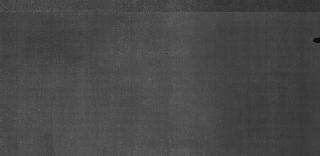punching hole: (310, 35, 320, 44)
welding line: (1, 8, 320, 18)
